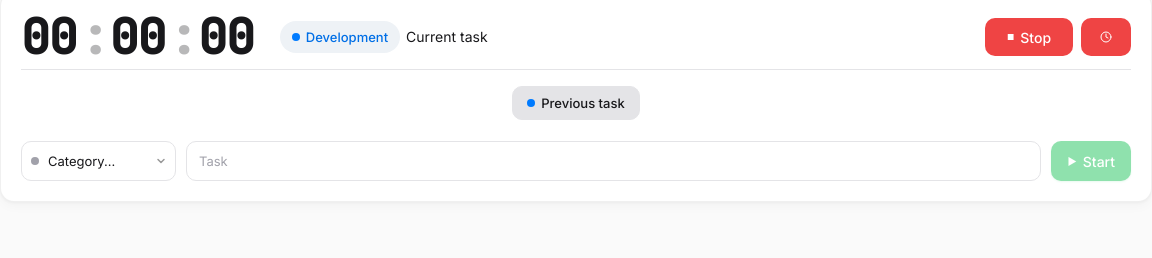
Test: TimeTracker › handles Escape in switch task form suggestions
This screenshot has width=1152, height=258.
Select "Development" in the dropdown with class "switch-category-select" at [98, 161], box [21, 141, 176, 181]
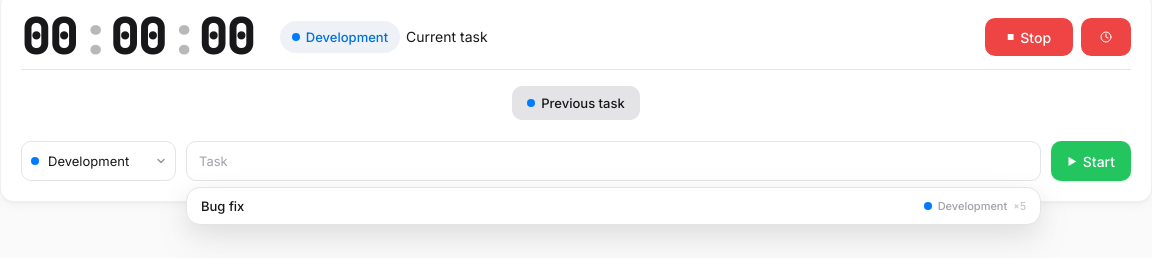
Type "Bug" into the field with class "switch-description-input" at [614, 161], box [186, 141, 1042, 181]
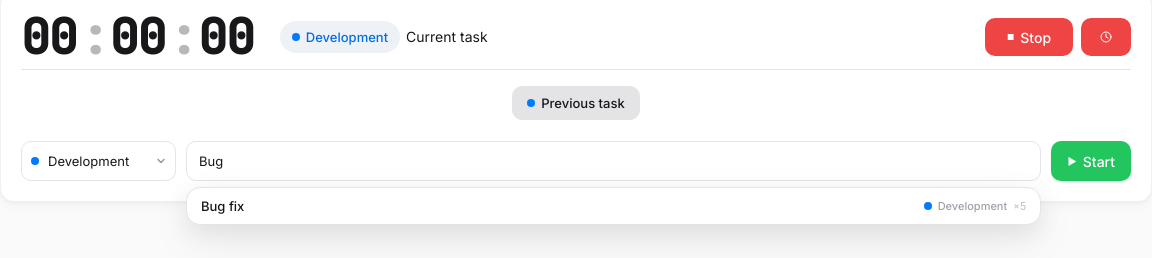
expect the button with class "suggestion-item" is shown: met, box [187, 188, 1040, 224]
Press Escape in the field with class "switch-description-input", box [186, 141, 1042, 181]
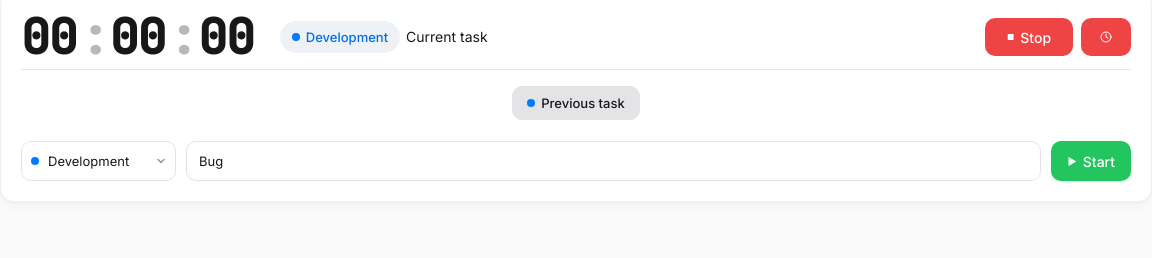
expect no elements with class "description-suggestions" are shown: met
